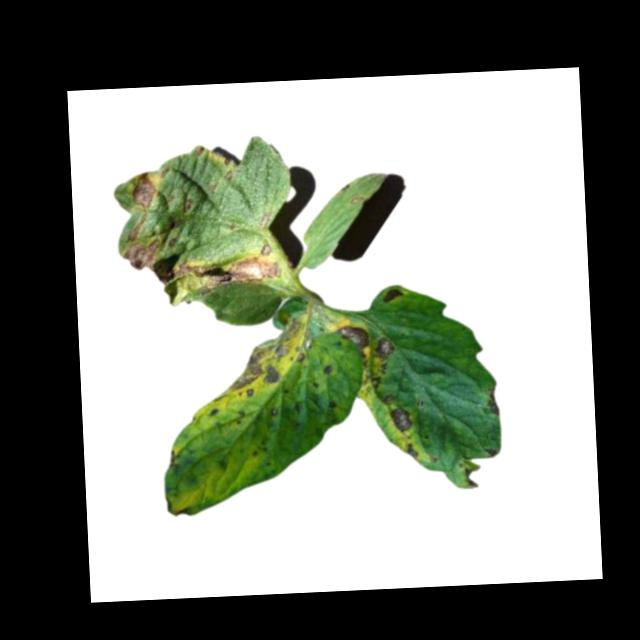Early_blight: (221, 315, 308, 399), (172, 256, 284, 294), (122, 239, 160, 272), (129, 171, 156, 210), (337, 325, 370, 352), (388, 406, 414, 433), (125, 210, 147, 241), (164, 499, 192, 518), (381, 286, 404, 306), (464, 467, 481, 493), (375, 336, 395, 358), (486, 388, 500, 417), (258, 209, 272, 231), (405, 444, 419, 459), (484, 445, 499, 459), (260, 243, 273, 256), (182, 198, 192, 213), (167, 238, 177, 249), (225, 169, 233, 182), (328, 401, 336, 410)
